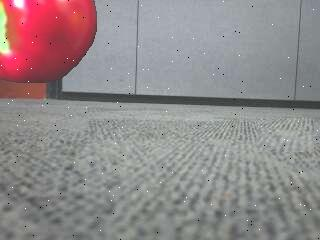Tomato: (0, 0, 98, 85)
